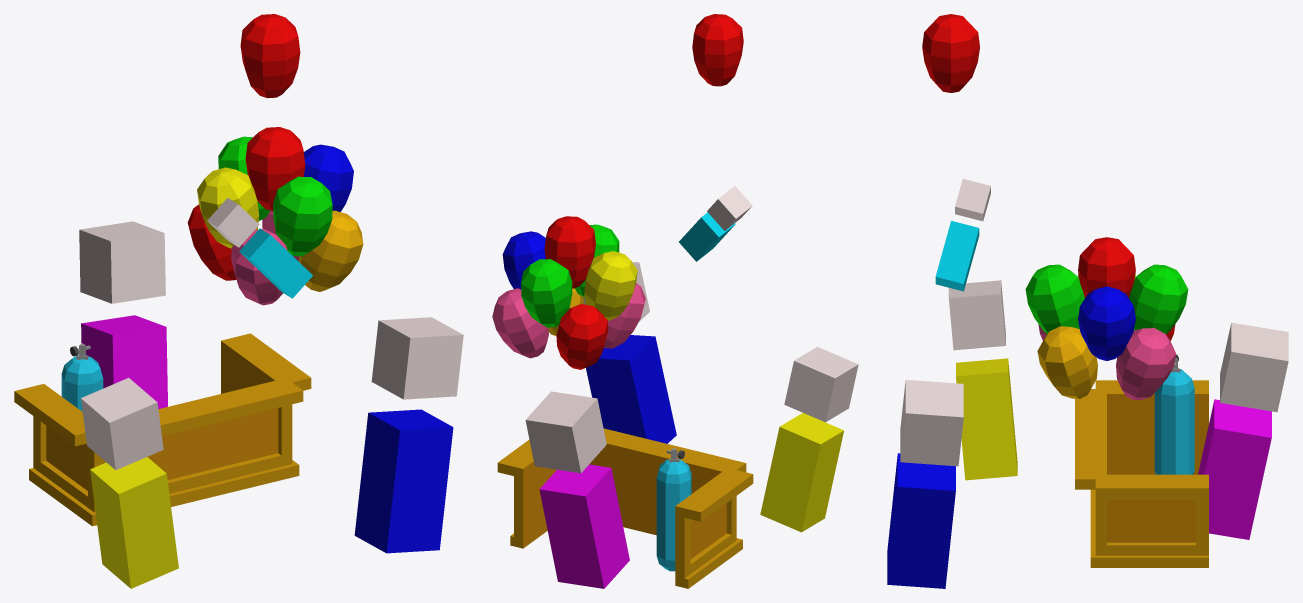
Rendered from BalloonStand.fbx.
The picture shows the model from 3 angles, left to right: view 1: azimuth 30°, elevation 25°; view 2: azimuth 150°, elevation 25°; view 3: azimuth 270°, elevation 25°; orthographic projection. The views are drawn at different scales.
Visible parts, largest first — view 1: BallonCounter, BalloonDad, BalloonMum, BalloonAttendent, Balloon10, BalloonKid, Balloon9, Balloon5, Balloon7, Balloon2, Balloon8, GassCylinder (+3 smaller); view 2: BallonCounter, BalloonAttendent, BalloonMum, BalloonDad, Balloon10, GassCylinder, Balloon1, Balloon2, Balloon3, Balloon5, Balloon4, BalloonKid (+3 smaller); view 3: BallonCounter, BalloonDad, BalloonAttendent, BalloonMum, GassCylinder, Balloon10, Balloon8, BalloonKid, Balloon4, Balloon7, Balloon1, Balloon9 (+1 smaller).
Boxes of the visible parts, x1,y1,x2,y2 form: BallonCounter: (14,333,311,526); BalloonDad: (354,317,463,553); BalloonMum: (81,377,178,588); BalloonAttendent: (79,221,167,408); Balloon10: (240,14,300,98); BalloonKid: (207,198,312,298); Balloon9: (273,176,332,256); Balloon5: (245,127,305,210); Balloon7: (299,210,363,291); Balloon2: (197,167,259,248); Balloon8: (303,144,353,211); GassCylinder: (61,343,103,411); BallonCounter: (497,428,753,588); BalloonAttendent: (525,391,629,588); BalloonMum: (760,347,858,532); BalloonDad: (583,262,676,443); Balloon10: (692,14,743,86); GassCylinder: (656,448,691,571); Balloon1: (521,259,572,327); Balloon2: (584,251,637,320); Balloon3: (556,304,608,369); Balloon5: (544,216,595,288); Balloon4: (492,288,548,358); BalloonKid: (679,186,752,261); BallonCounter: (1075,380,1208,567); BalloonDad: (887,379,963,588); BalloonAttendent: (1198,322,1288,539); BalloonMum: (948,280,1017,480); GassCylinder: (1154,354,1194,474); Balloon10: (922,14,979,92); Balloon8: (1078,286,1135,360); BalloonKid: (935,178,990,291); Balloon4: (1116,328,1176,399); Balloon7: (1037,326,1097,398); Balloon1: (1129,264,1188,334); Balloon9: (1025,264,1084,333).
Bounding box in the file's own units: 307 × 483 × 344.
